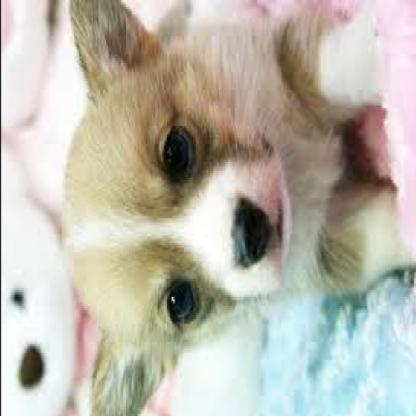dog: (59, 0, 415, 415)
